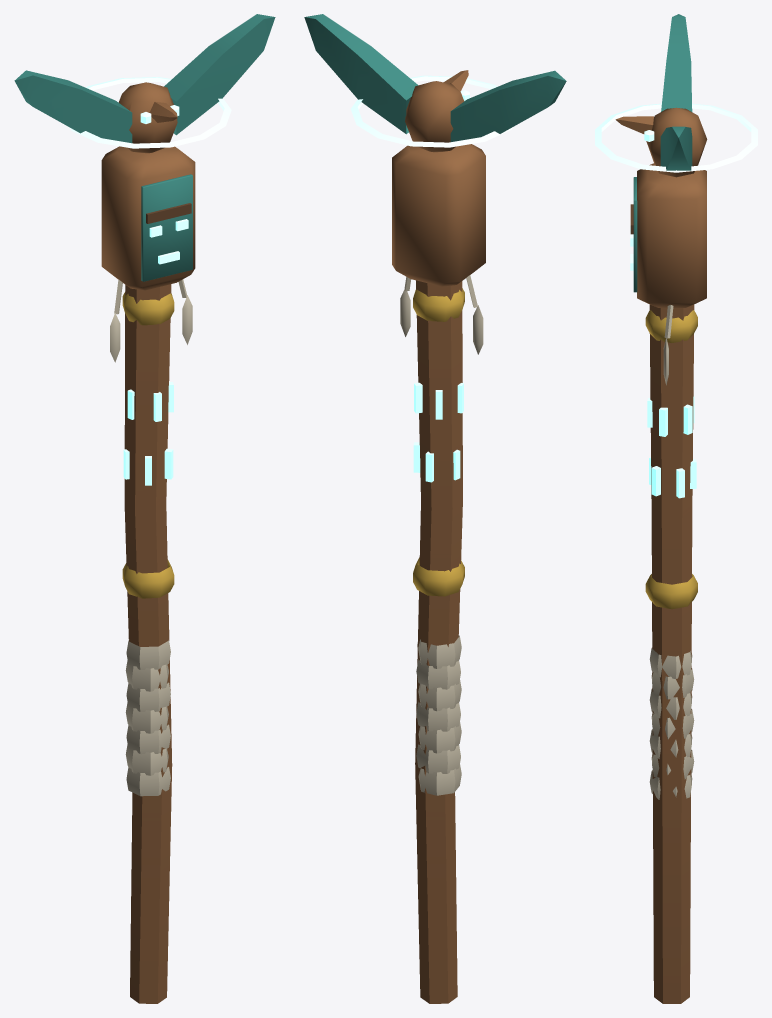
Rendered from totem-staff-5.glb.
3 views of the same model, side by side, from view 1: azimuth 30°, elevation 25°; view 2: azimuth 150°, elevation 25°; view 3: azimuth 270°, elevation 25° (orthographic). The views are drawn at different scales.
Visible parts, largest first — view 1: totem-staff-5; view 2: totem-staff-5; view 3: totem-staff-5.
Boxes of the visible parts, left/top/right/bottom form: totem-staff-5: left=14, top=14, right=275, bottom=1003; totem-staff-5: left=304, top=14, right=566, bottom=1003; totem-staff-5: left=595, top=14, right=757, bottom=1003.
Size of the model in its own units: 0.26 by 0.9043 by 0.1443.
